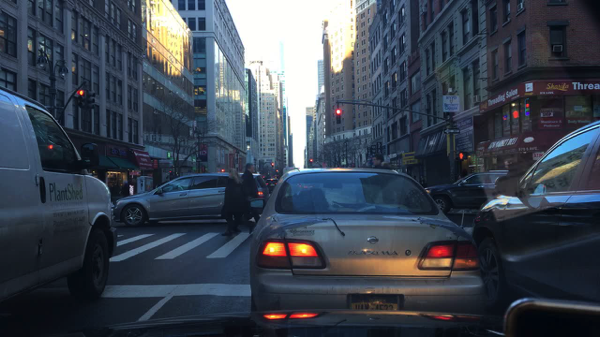car: (248, 167, 484, 330), (472, 118, 599, 337), (0, 83, 118, 306), (113, 173, 269, 228), (421, 171, 524, 215), (235, 173, 273, 211), (266, 178, 279, 192)
person: (237, 163, 263, 227), (222, 168, 244, 237), (370, 155, 389, 169), (458, 169, 469, 179), (419, 176, 425, 187), (410, 175, 416, 180)
traffic light: (76, 89, 86, 110), (88, 89, 96, 111), (335, 108, 342, 124), (457, 152, 469, 161), (308, 159, 313, 167), (169, 171, 173, 181), (270, 161, 274, 168), (275, 169, 278, 177), (220, 168, 224, 173)
traffic sign: (443, 94, 460, 112), (443, 128, 461, 134), (443, 122, 457, 128)
